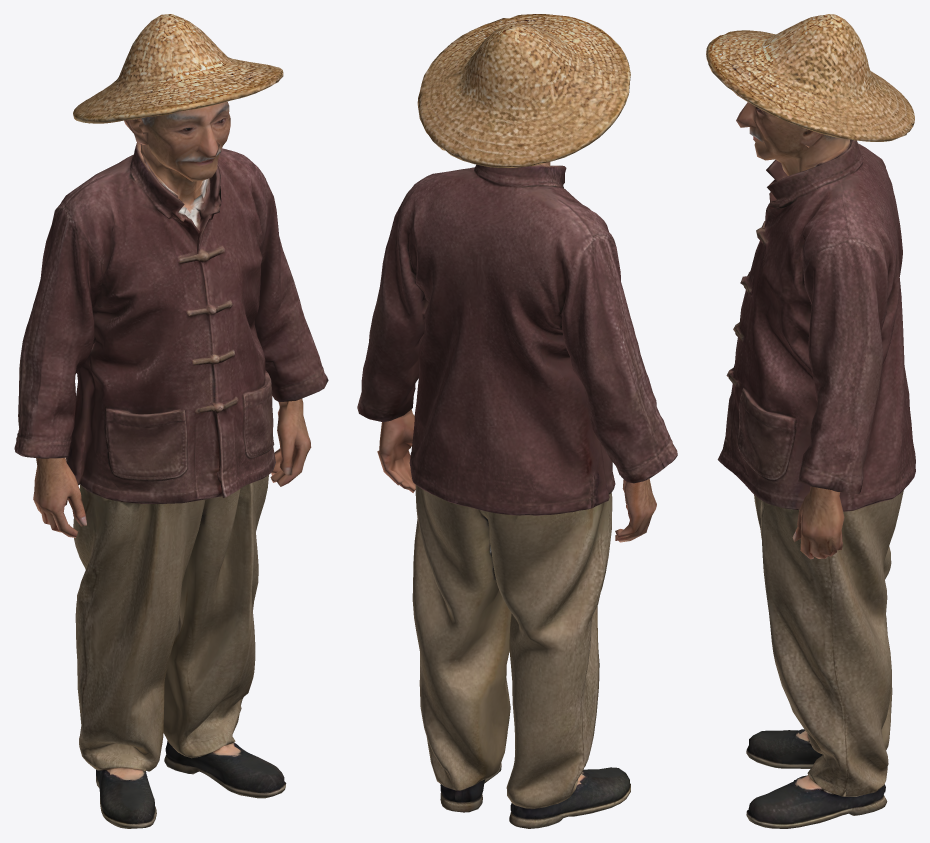
Rendered from southRice.glb.
3 views of the same model, side by side, from view 1: azimuth 30°, elevation 25°; view 2: azimuth 150°, elevation 25°; view 3: azimuth 270°, elevation 25° (orthographic).
Parts seen in each view (by area): view 1: tripo_node_60331708-a63c-49df-8c09-159949efbad7, southRice articulation; view 2: tripo_node_60331708-a63c-49df-8c09-159949efbad7; view 3: tripo_node_60331708-a63c-49df-8c09-159949efbad7, southRice articulation.
Boxes of the visible parts, bbox=[...] form: tripo_node_60331708-a63c-49df-8c09-159949efbad7: bbox=[14, 14, 328, 828]; southRice articulation: bbox=[147, 101, 230, 207]; tripo_node_60331708-a63c-49df-8c09-159949efbad7: bbox=[357, 14, 677, 828]; tripo_node_60331708-a63c-49df-8c09-159949efbad7: bbox=[706, 14, 915, 828]; southRice articulation: bbox=[736, 102, 806, 198].
Bounding box in the file's own units: 0.4064 × 0.9803 × 0.2412.
Materials: 2 (1 with a texture image).
